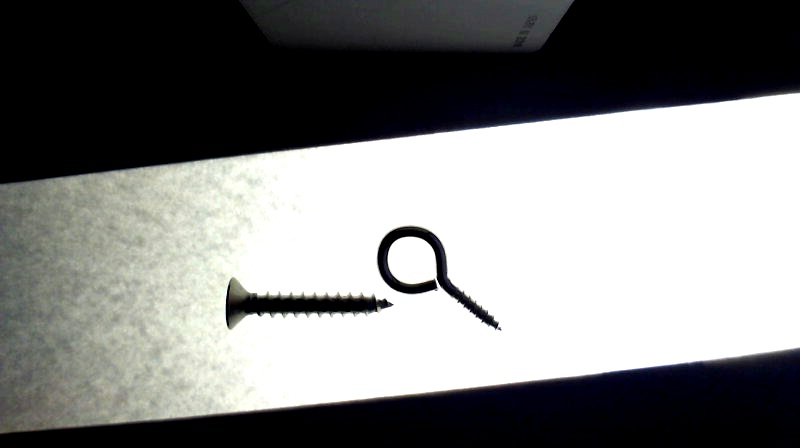O001: (375, 225, 504, 333)
S001: (222, 280, 396, 330)
